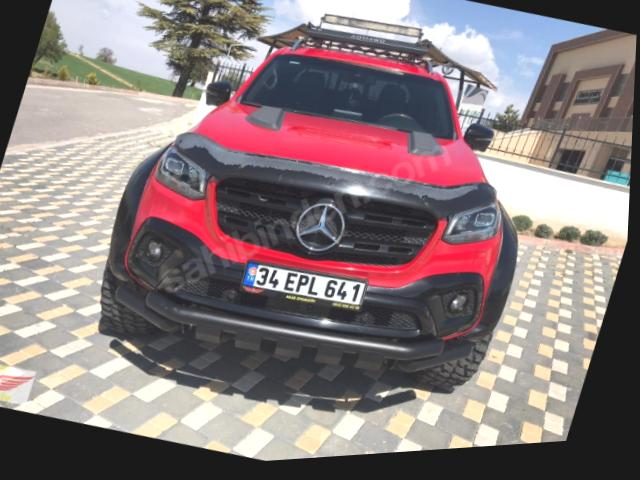plaka: (243, 262, 365, 306)
